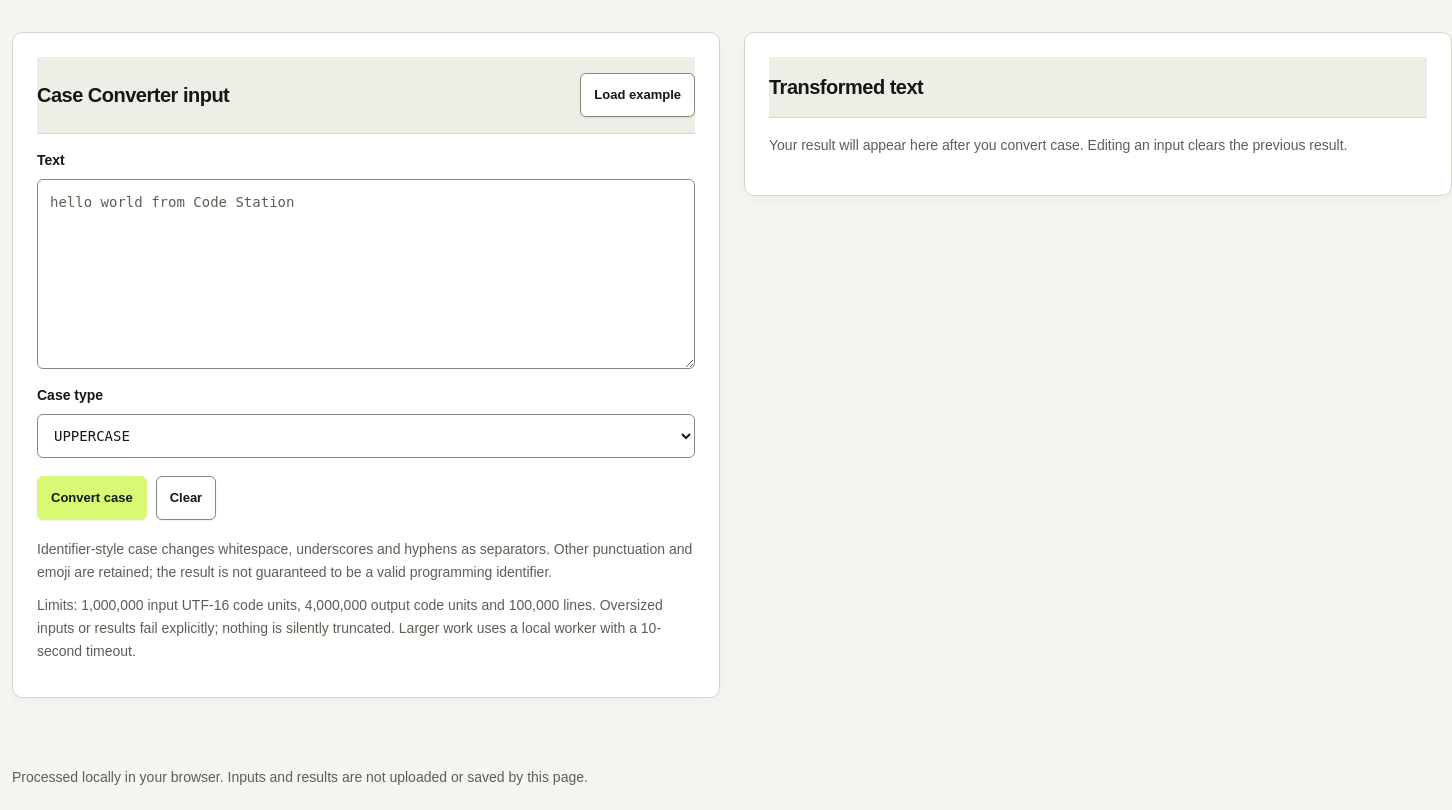
Test: Text light DOM theme (not visual proof) › case-converter exact fields, keyboard actions, exact visible Copy, full Clear and privacy
The width and height of the screenshot is (1452, 810).
Check: the text box labelled "Text" is shown, box [37,179,695,369]
Check: the dropdown labelled "Case type" is shown, box [37,414,695,458]
Click the button "Load example": (638,95) [580,73,695,117]
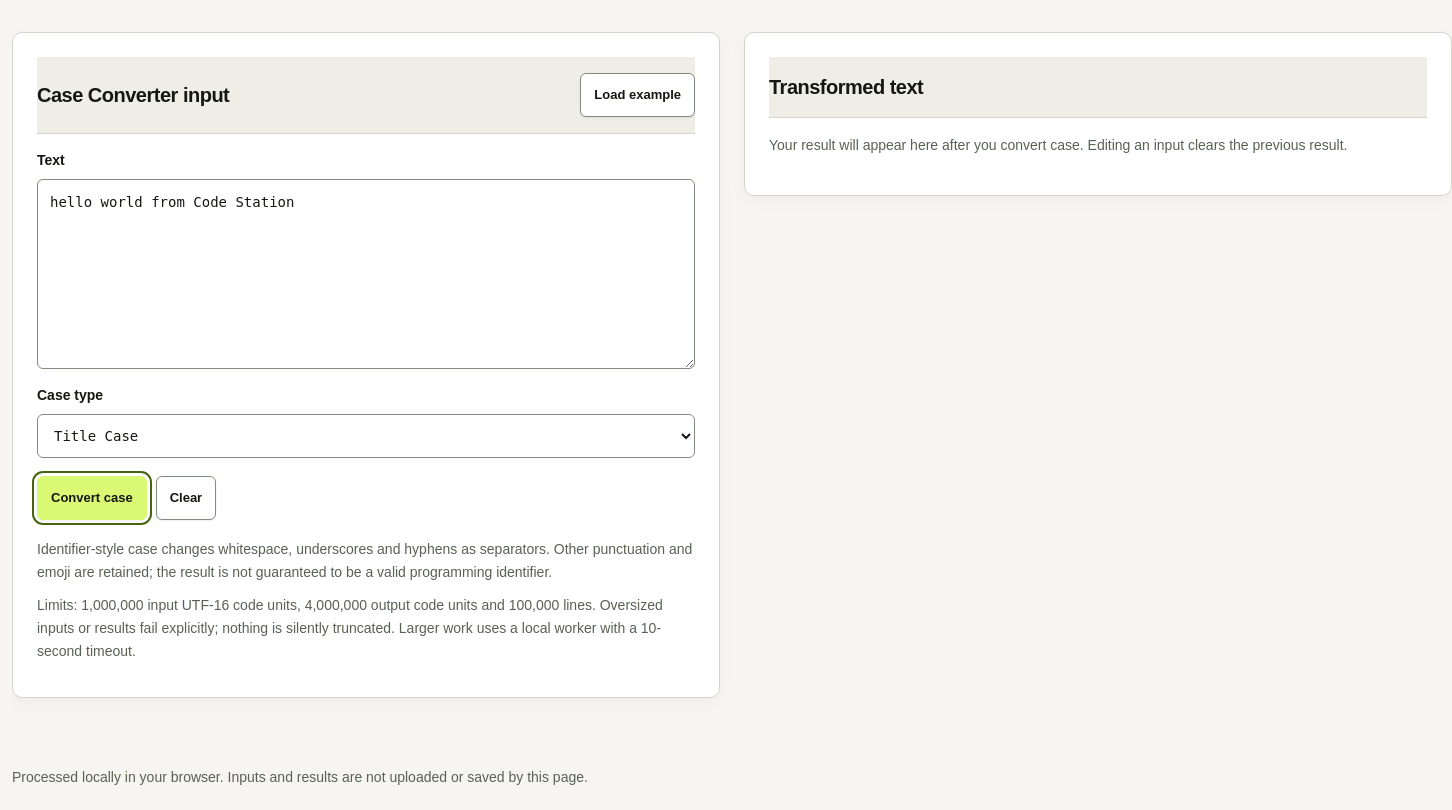
Press Enter
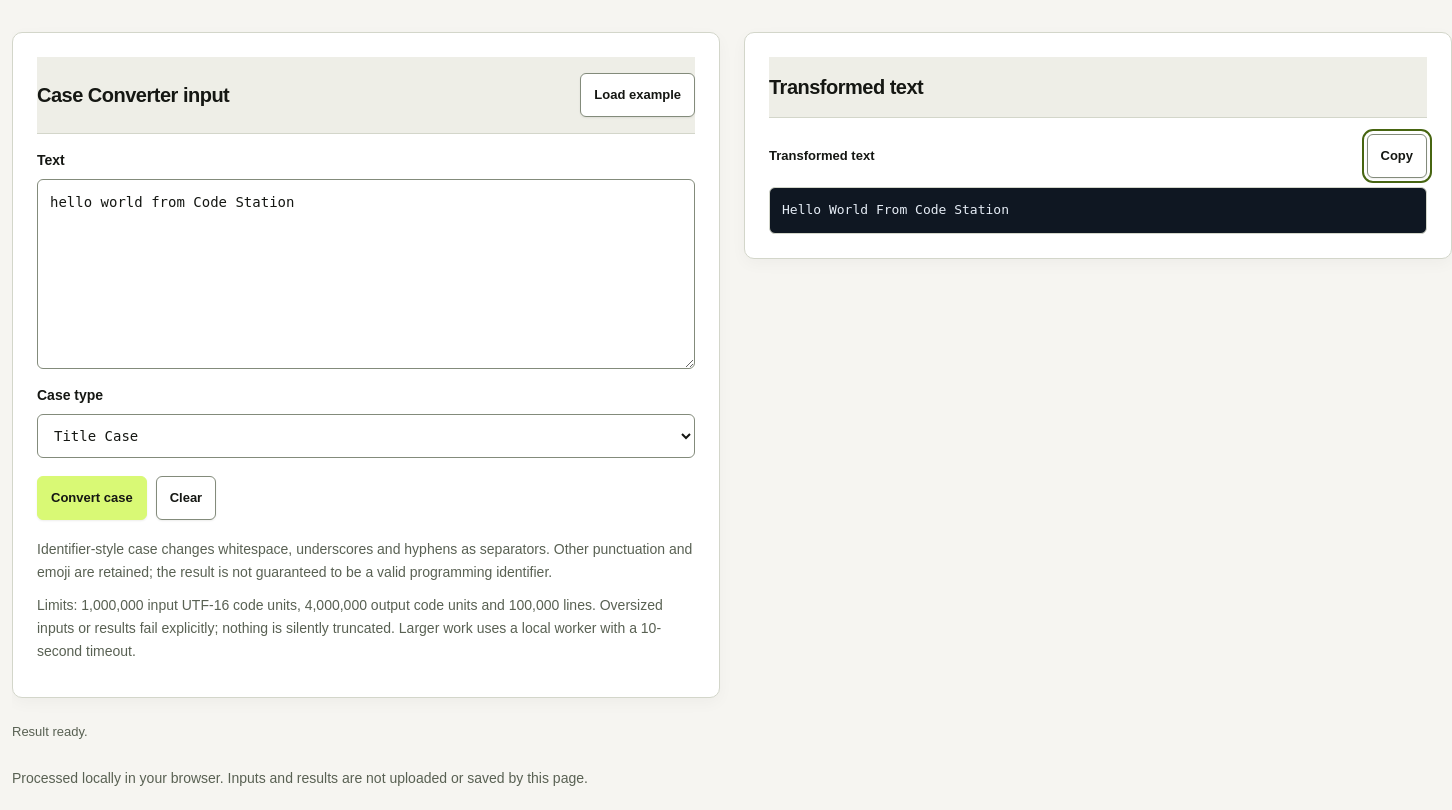
Press Enter
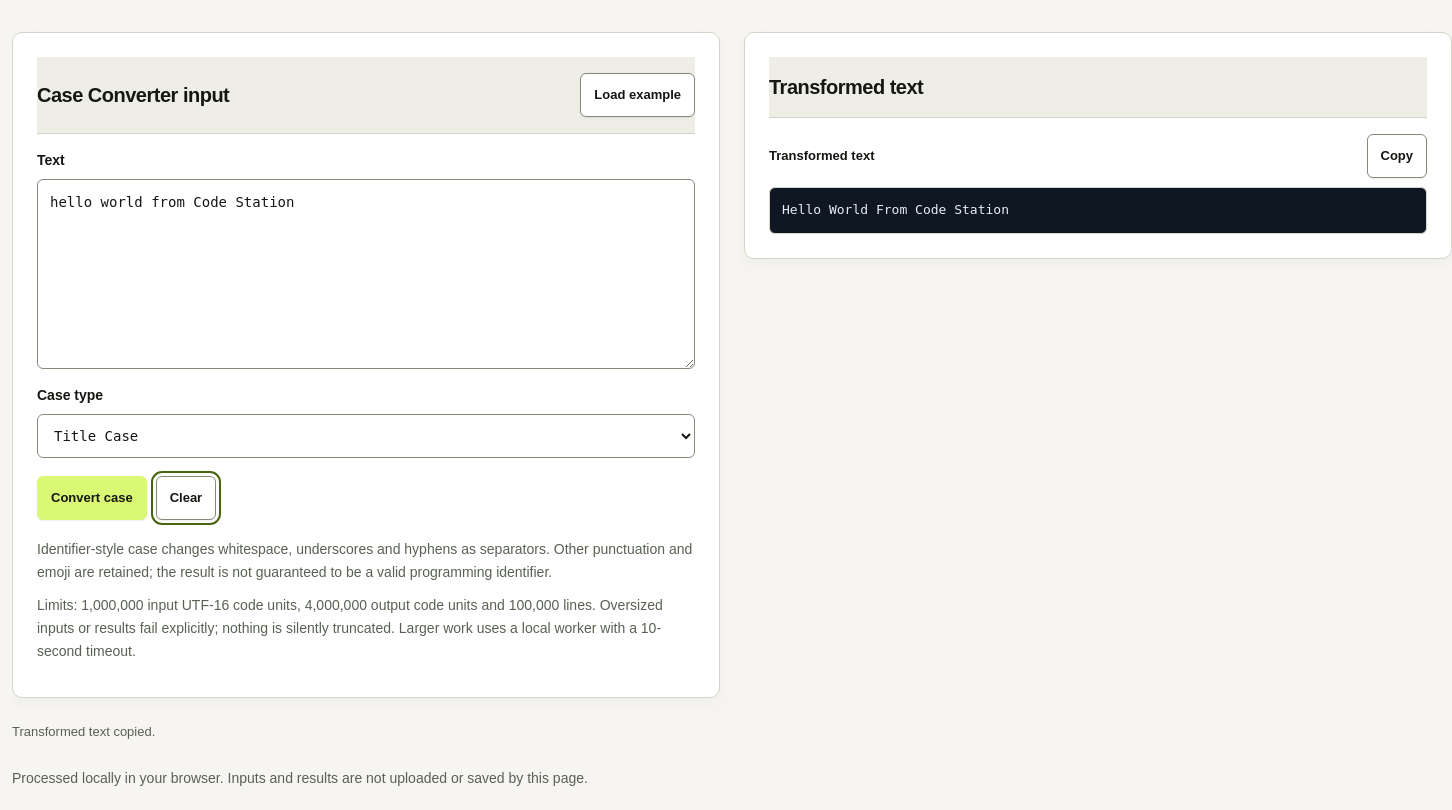
Press Enter
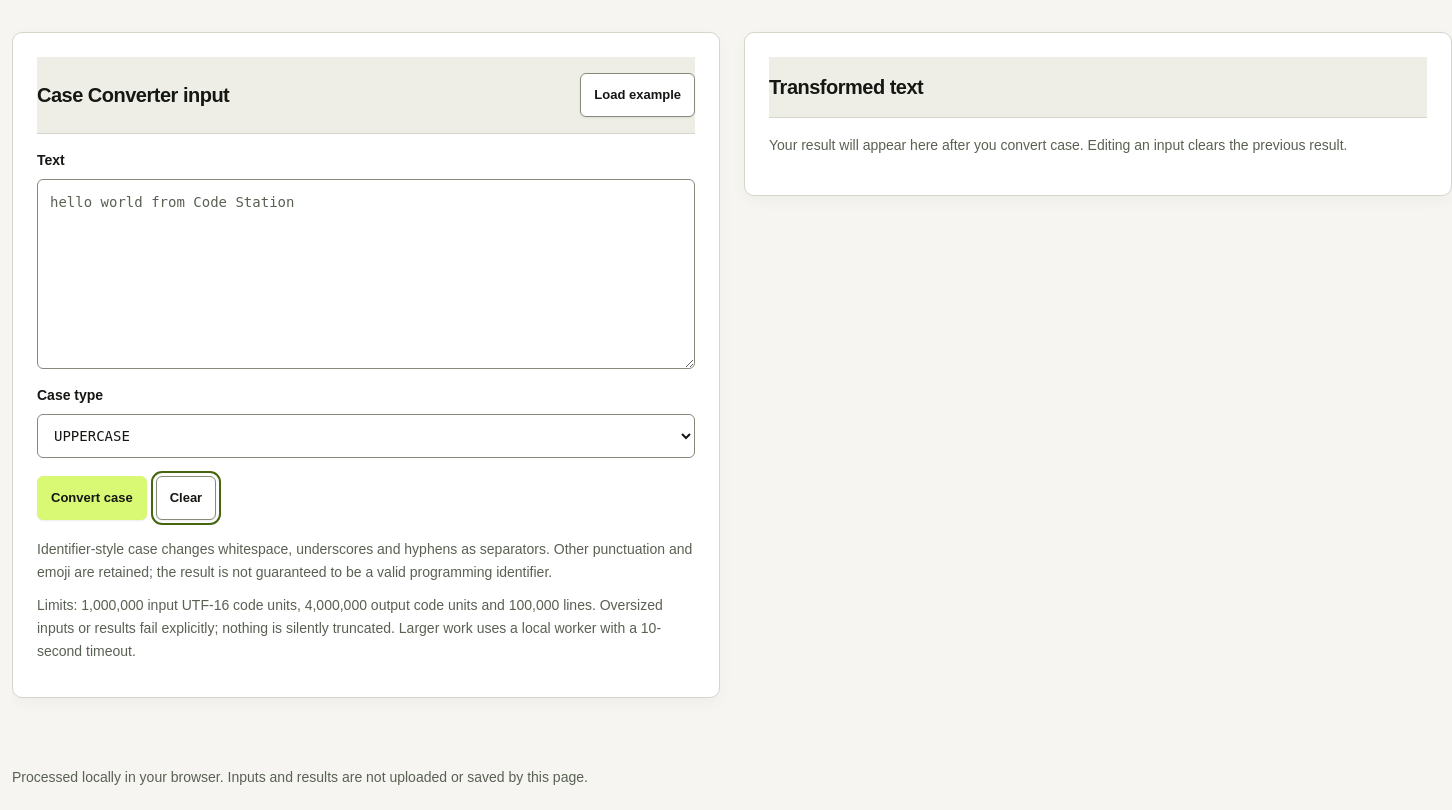
Check: the text box labelled "Text" is empty, box [37,179,695,369]
Check: the dropdown labelled "Case type" shows "UPPERCASE", box [37,414,695,458]
